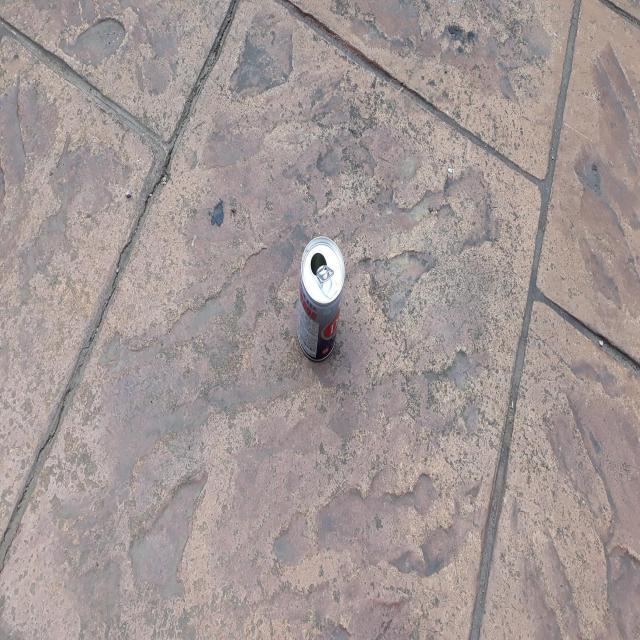can: (297, 235, 345, 361)
